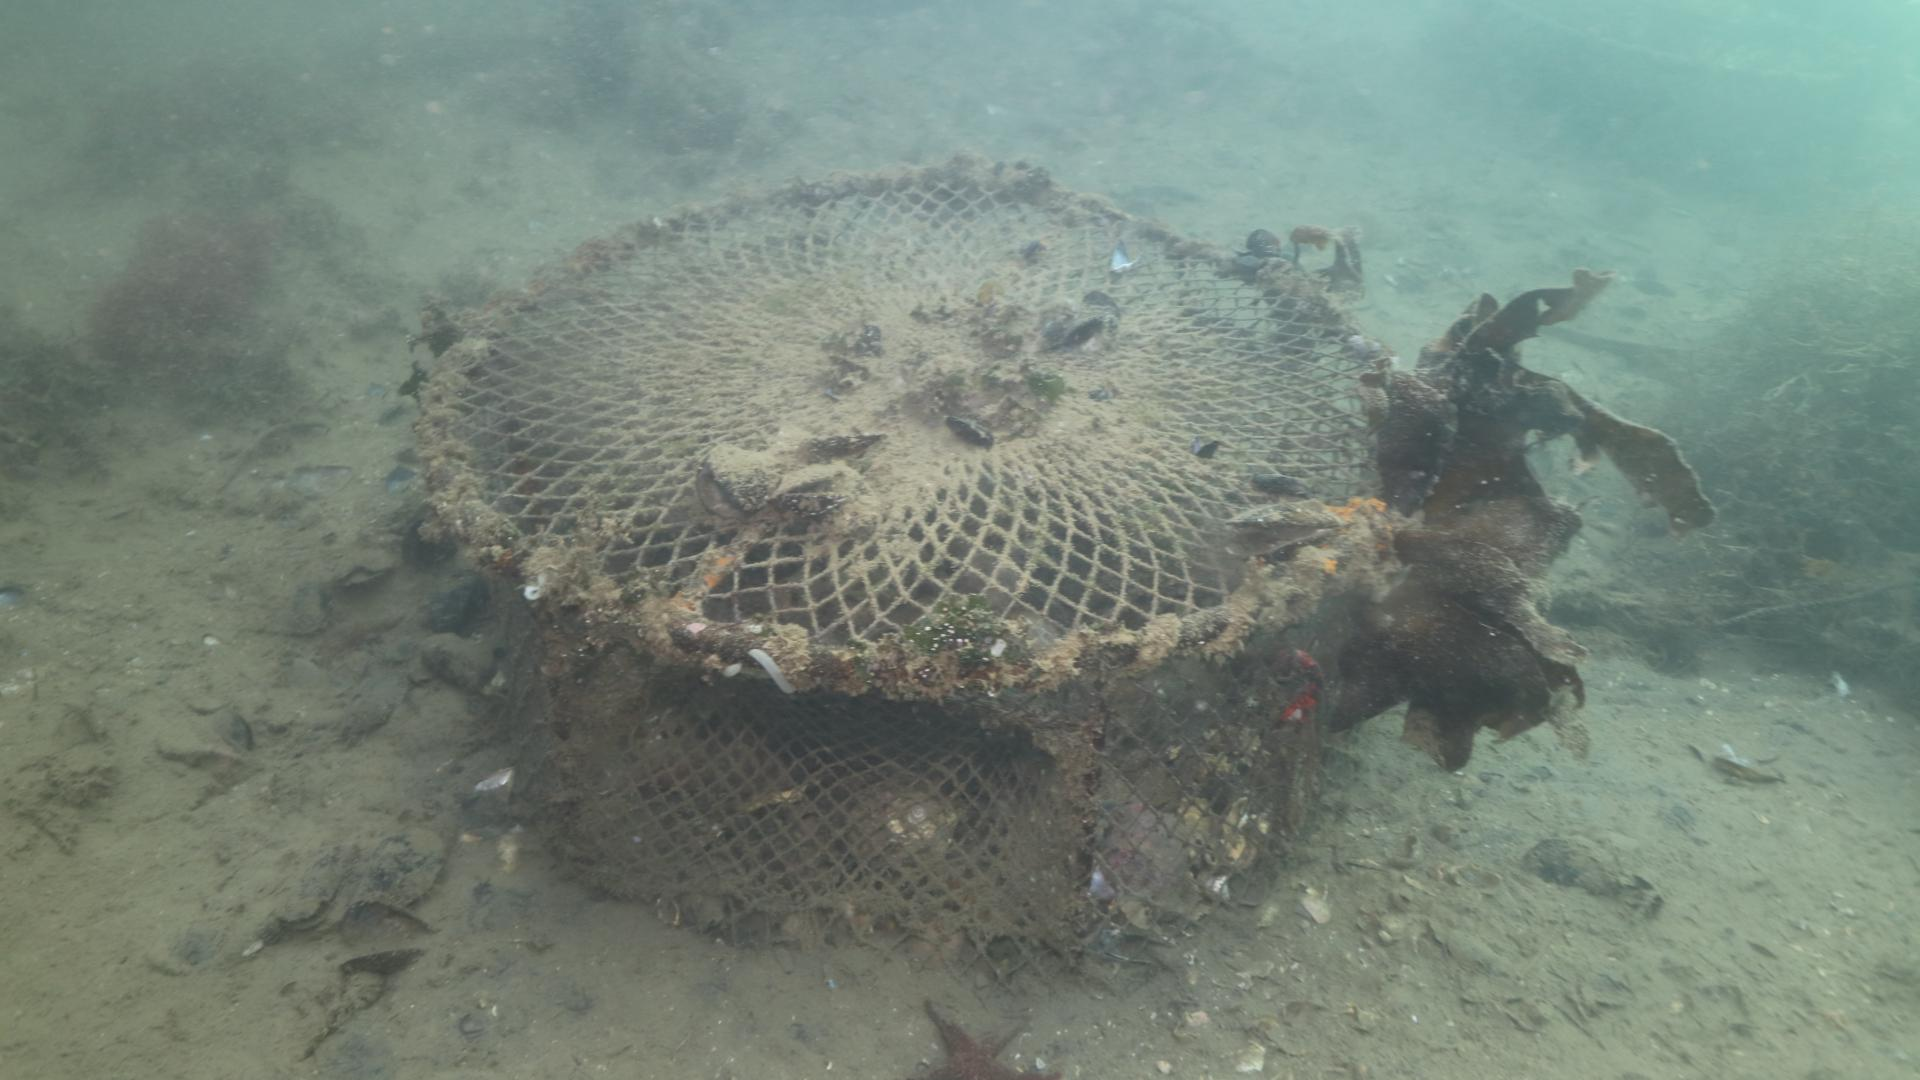circular fish trap: (411, 160, 1396, 981)
